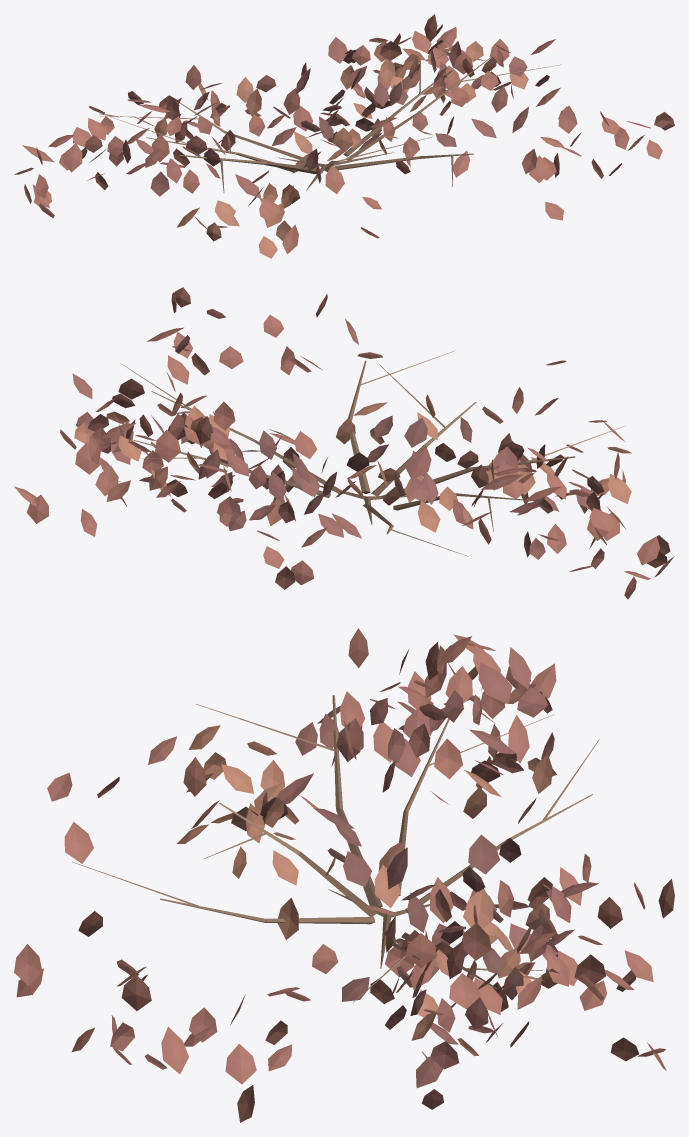
The model's file is bush_3d_04_red.glb.
3 renders of one model, top to bottom at view 1: azimuth 30°, elevation 25°; view 2: azimuth 150°, elevation 25°; view 3: azimuth 270°, elevation 25°, orthographic. The views are drawn at different scales.
Parts seen in each view (by area): view 1: bush_3d_04_red_foliage, bush_3d_04_red_wood; view 2: bush_3d_04_red_foliage, bush_3d_04_red_wood; view 3: bush_3d_04_red_foliage, bush_3d_04_red_wood.
Part boxes in pixels (x1,y1,x2,y2): bush_3d_04_red_foliage: (14, 14, 674, 258); bush_3d_04_red_wood: (100, 57, 561, 193); bush_3d_04_red_foliage: (14, 287, 674, 599); bush_3d_04_red_wood: (120, 350, 625, 556); bush_3d_04_red_foliage: (14, 628, 674, 1122); bush_3d_04_red_wood: (72, 695, 599, 1002).
Bounding box in the file's own units: 3.8 × 0.75 × 2.6.
